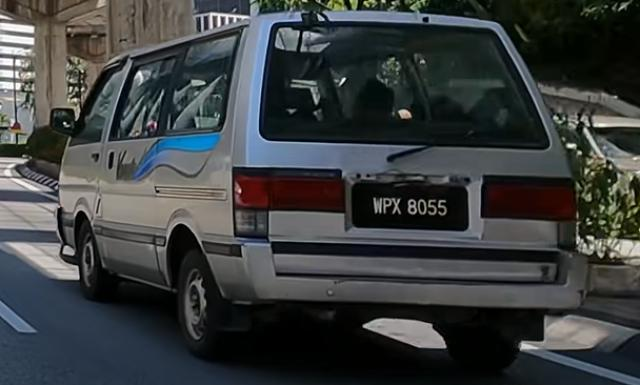License_Plate: (349, 180, 471, 232)
car: (49, 10, 594, 367)
